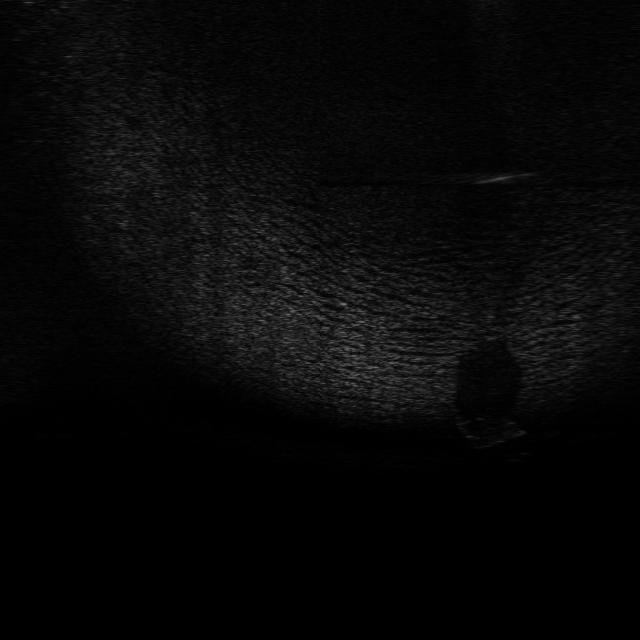cube: (452, 413, 527, 450)
